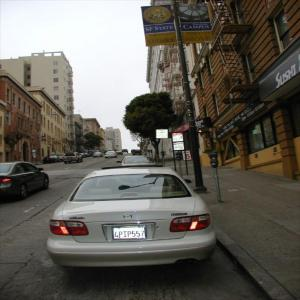Vehicle-registration-plate: (113, 224, 149, 240)
